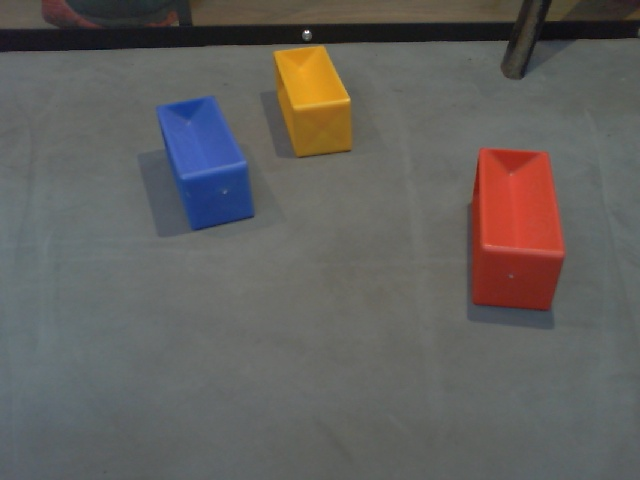BlueSample: (152, 92, 258, 233)
RedSample: (466, 145, 567, 314)
YellowSample: (272, 44, 354, 159)
